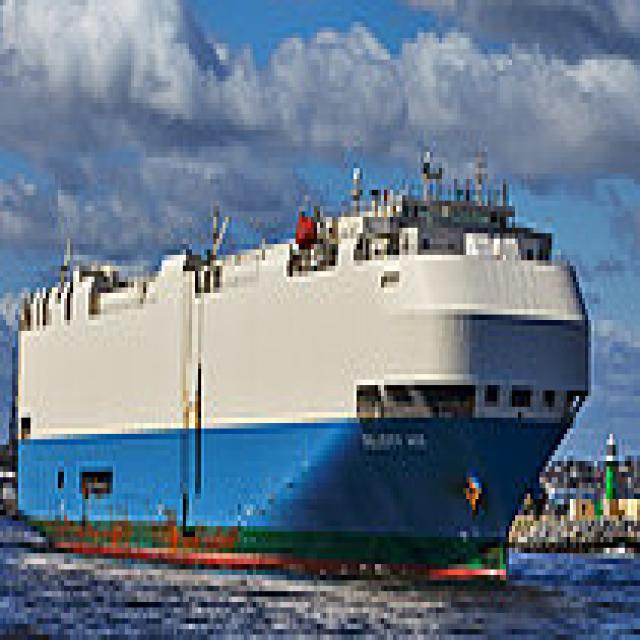Carrier: (9, 141, 591, 580)
